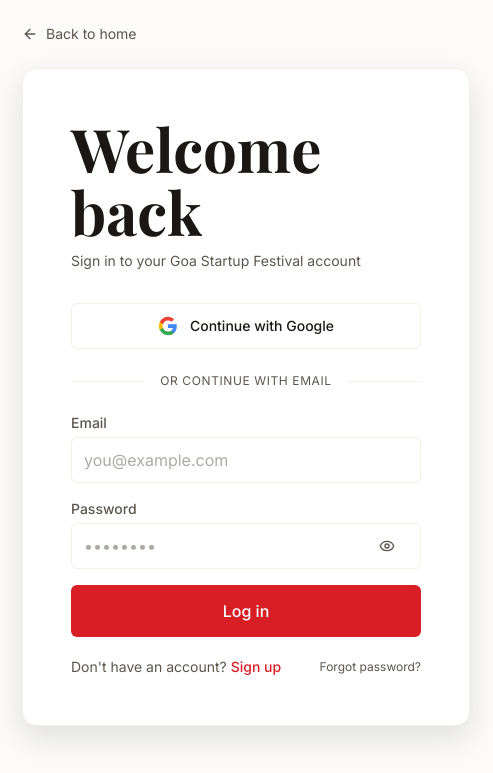
Test: Auth Pages – Invalid fields show inline errors without API calls › login: shows invalid email error without calling signIn
The width and height of the screenshot is (493, 773).
Type "notanemail" into the field labelled "Email".
click(246, 460); type("notanemail")  # box [71, 437, 421, 483]
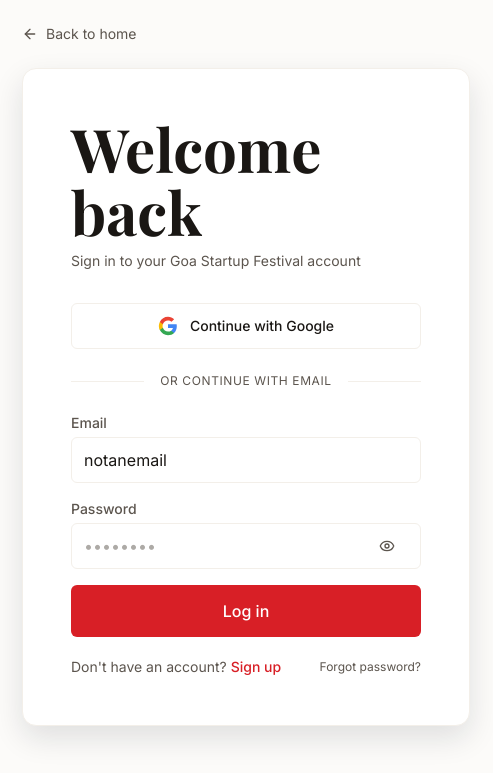
Type "password123" into the password field labelled "Password".
click(246, 546); type("password123")  # box [71, 523, 421, 569]
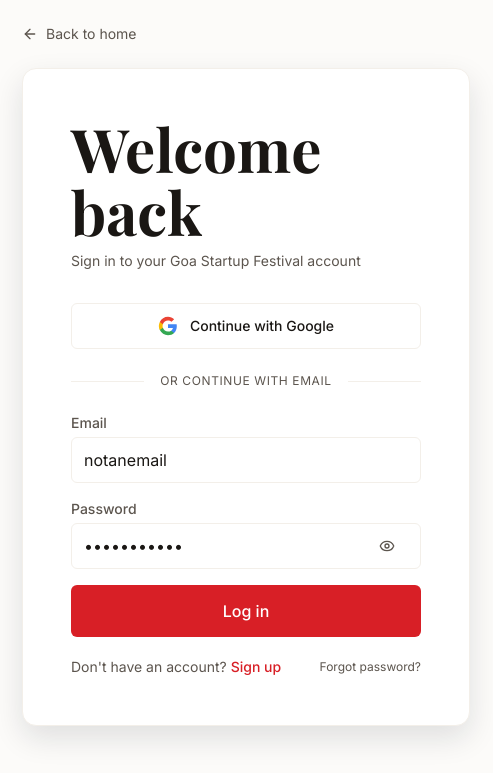
Click the button "Log in".
click(246, 611)  # box [71, 585, 421, 637]
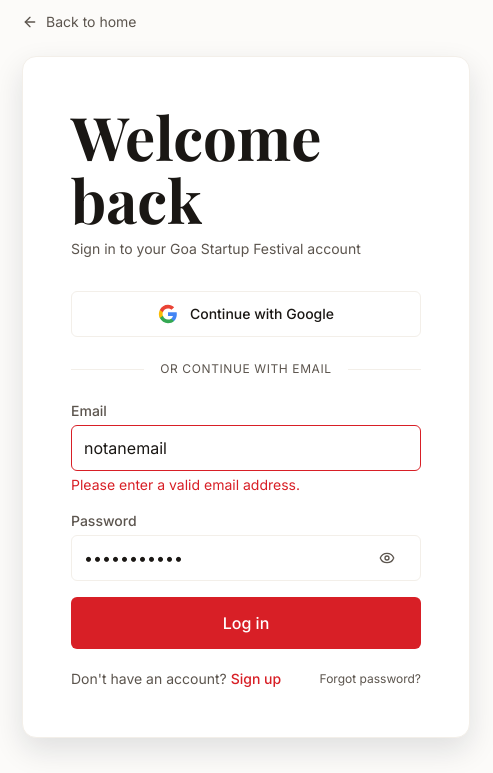
Expected: the text "Please enter a valid email address." is shown, [71, 476, 300, 493]
